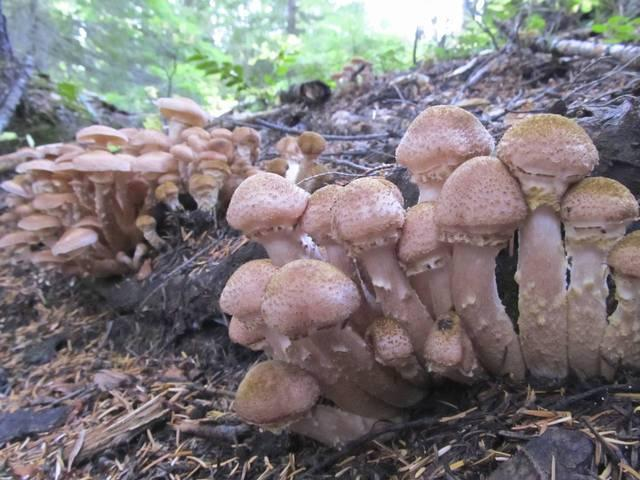edible_mushroom: (217, 103, 639, 446), (3, 123, 218, 281), (152, 90, 210, 135)
